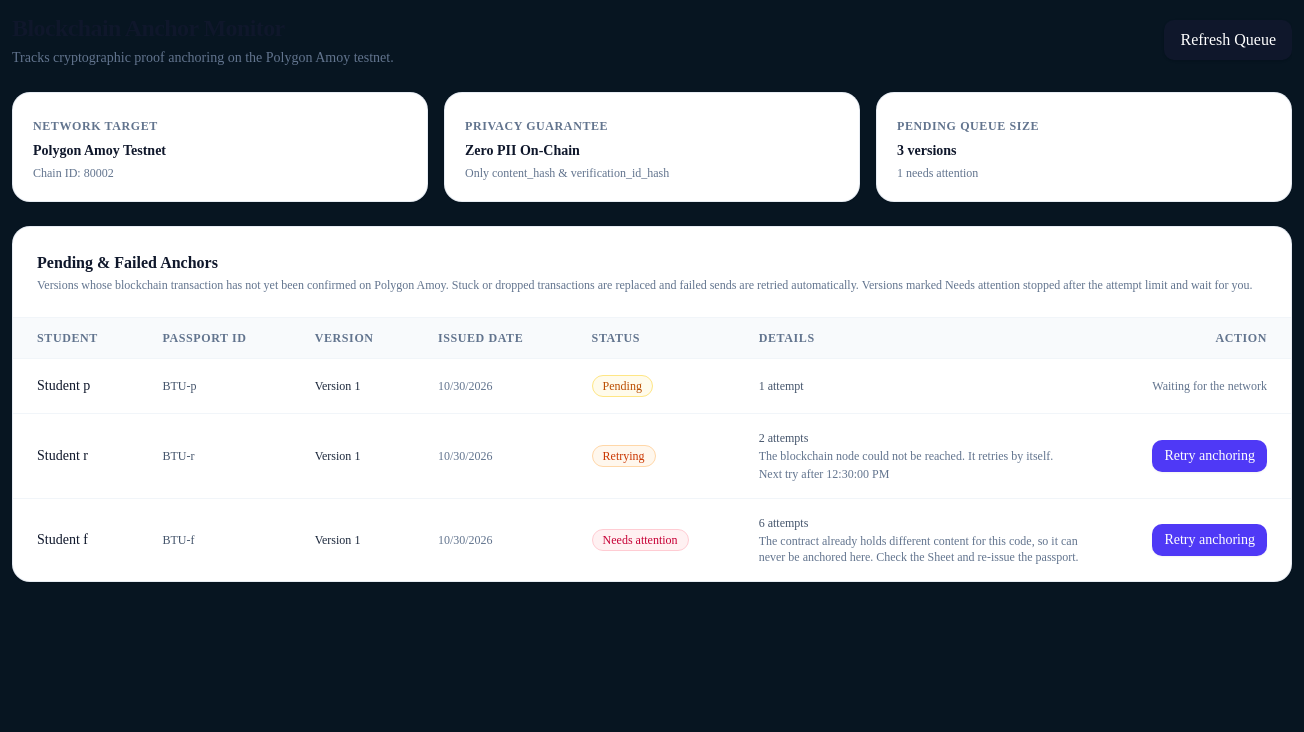
admin anchor monitor › retries one version, reports the result and reloads the queue
This screenshot has width=1304, height=732.
Expected: the link "Student f" is shown, [37, 532, 88, 547]
What coordinates should you click on to do the following:
click the button "Retry anchoring" in the row of "Student f"
I would click on:
 (1210, 540)
Its box is [1152, 524, 1267, 556].
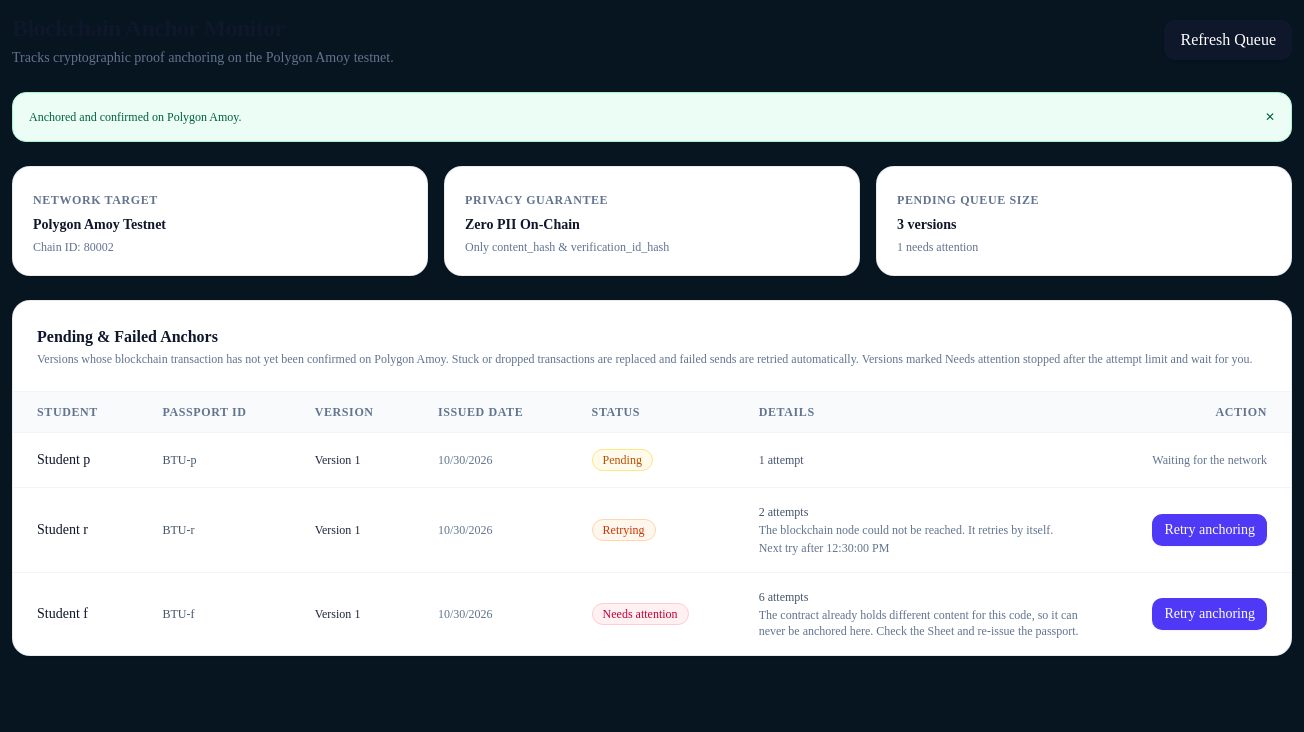
Now the message with test id "anchor-notice" shows "Anchored and confirmed", box [29, 110, 242, 124]
